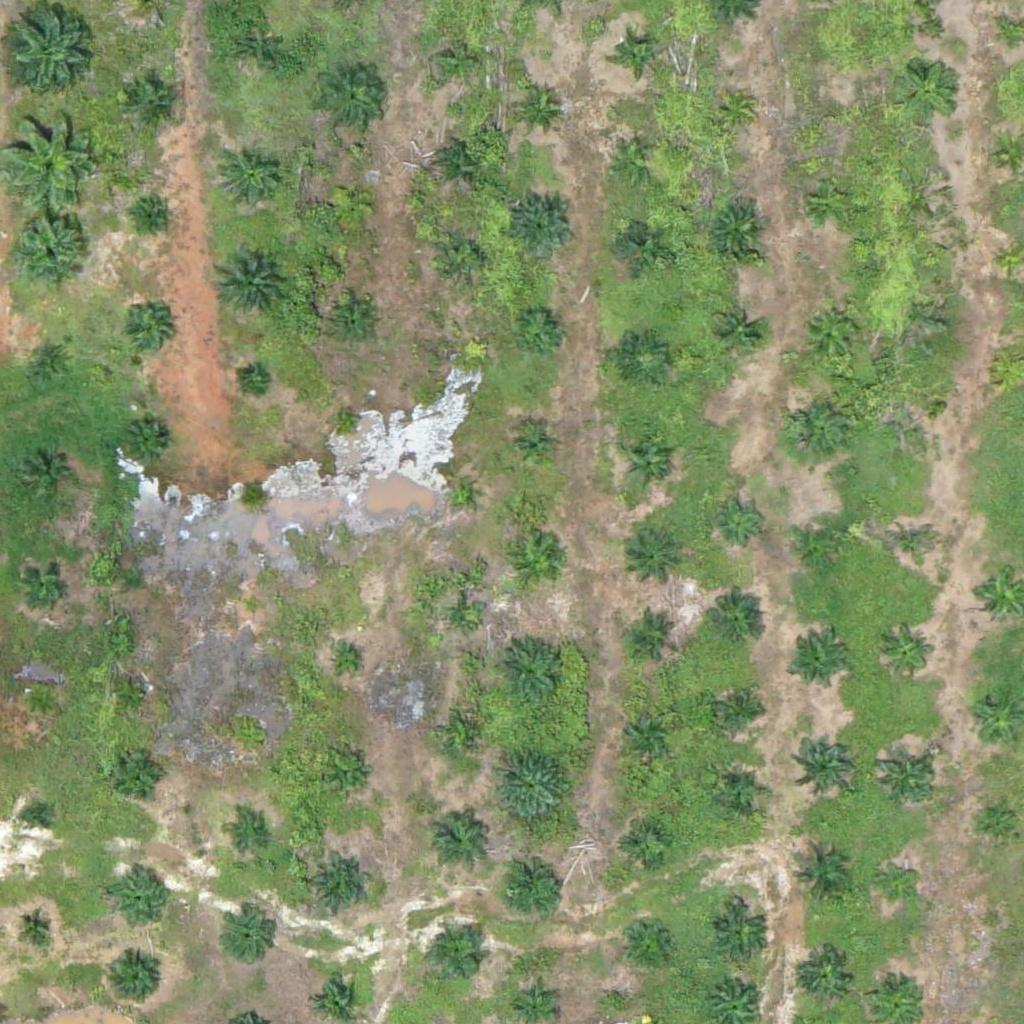Kelapa_Sawit: (6, 209, 94, 297), (491, 633, 566, 709), (495, 851, 570, 927), (495, 747, 570, 823), (212, 245, 287, 321), (424, 806, 487, 869), (709, 902, 772, 965), (309, 852, 372, 915), (625, 526, 688, 589), (783, 397, 846, 460), (512, 195, 575, 258), (427, 30, 490, 93), (704, 595, 767, 658), (788, 633, 850, 696), (789, 846, 851, 909), (876, 747, 938, 810), (792, 730, 854, 793), (320, 68, 382, 131), (220, 147, 282, 210), (103, 949, 165, 1012), (107, 867, 169, 930), (707, 199, 769, 262), (801, 300, 863, 363), (897, 60, 959, 123), (224, 17, 286, 80), (882, 626, 932, 677), (223, 911, 273, 962), (113, 748, 163, 799), (619, 334, 669, 385), (617, 216, 667, 267), (437, 138, 487, 189), (513, 81, 563, 132), (438, 232, 488, 283), (326, 178, 376, 229), (514, 305, 564, 356), (712, 305, 762, 356), (886, 520, 936, 571), (798, 518, 848, 569), (716, 495, 766, 546), (624, 437, 674, 488), (435, 931, 485, 981), (621, 914, 671, 964), (620, 818, 670, 868), (802, 949, 852, 999), (127, 76, 177, 126), (513, 539, 563, 589), (807, 176, 857, 226), (610, 136, 660, 186), (332, 299, 382, 349), (714, 684, 764, 734), (716, 768, 766, 818), (622, 704, 672, 754), (627, 609, 677, 659), (509, 422, 559, 472), (121, 305, 171, 355), (124, 419, 174, 469), (21, 558, 71, 608), (21, 451, 71, 501), (28, 337, 78, 387), (226, 817, 264, 855), (716, 90, 754, 128), (619, 35, 657, 73), (877, 866, 915, 904), (331, 760, 368, 798), (814, 97, 851, 135), (897, 395, 934, 433), (18, 908, 55, 946), (22, 684, 60, 721), (115, 678, 152, 716), (980, 803, 1017, 840), (241, 368, 266, 394), (453, 724, 478, 750), (446, 479, 471, 504), (451, 607, 476, 632), (334, 650, 359, 675), (334, 406, 359, 431), (24, 805, 49, 830), (142, 204, 167, 229), (240, 595, 265, 620)
